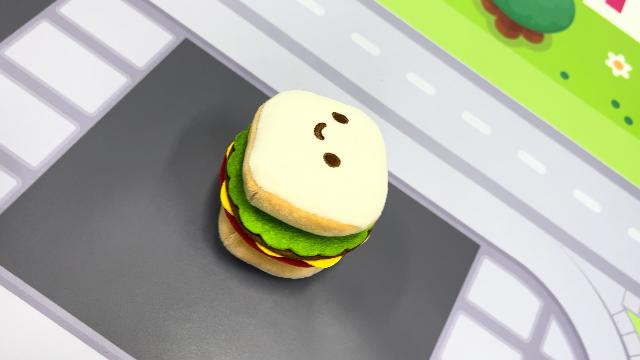sandwich: (215, 87, 391, 280)
